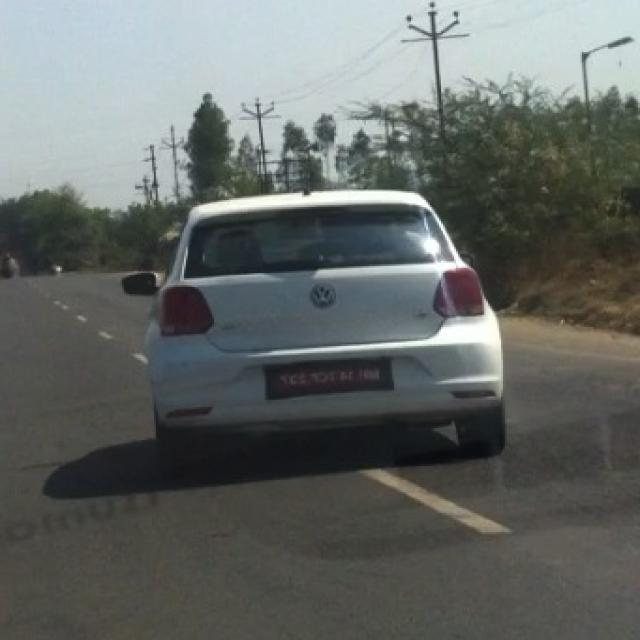number-plate: (263, 354, 393, 396)
